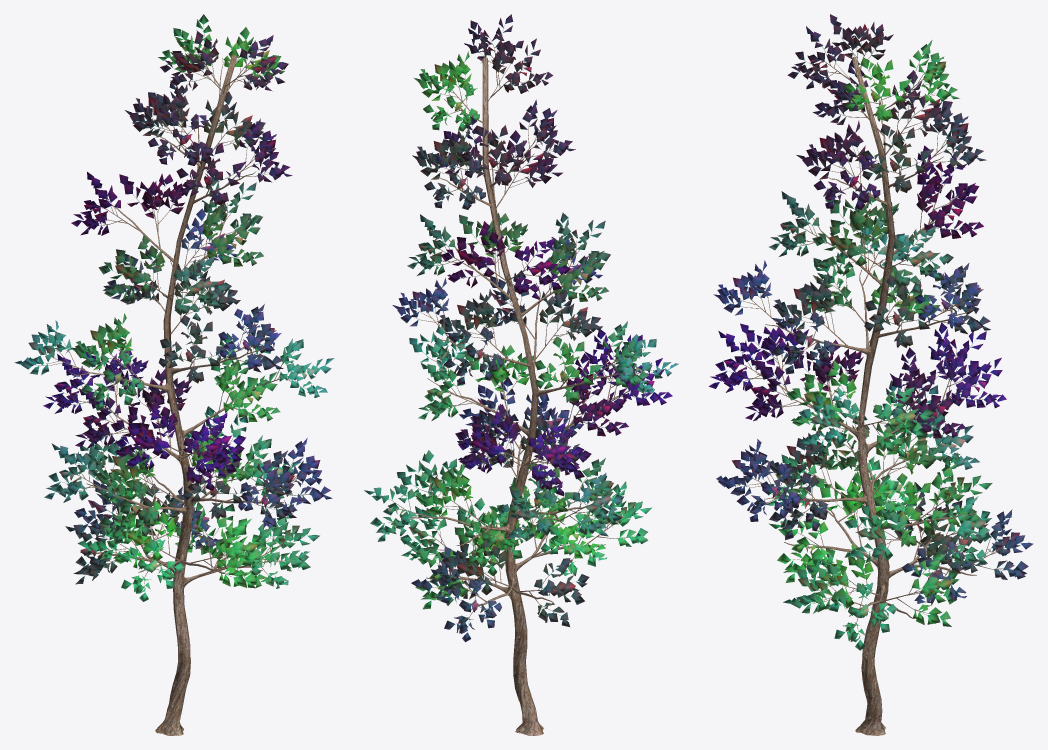
File: DM.Tree.Maple.03.fbx
3 views of the same model, side by side, from view 1: azimuth 30°, elevation 25°; view 2: azimuth 150°, elevation 25°; view 3: azimuth 270°, elevation 25° (orthographic). The views are drawn at different scales.
Visible parts, largest first — view 1: Tree_1, Tree_0; view 2: Tree_1, Tree_0; view 3: Tree_1, Tree_0.
Part boxes in pixels (x1,y1,x2,y2): Tree_1: [14, 14, 334, 601]; Tree_0: [37, 26, 312, 735]; Tree_1: [364, 14, 678, 642]; Tree_0: [382, 29, 668, 735]; Tree_1: [708, 14, 1033, 650]; Tree_0: [727, 35, 1015, 735].
Size of the model in its own units: 414 by 939 by 379.
1 material, 1 textured.
